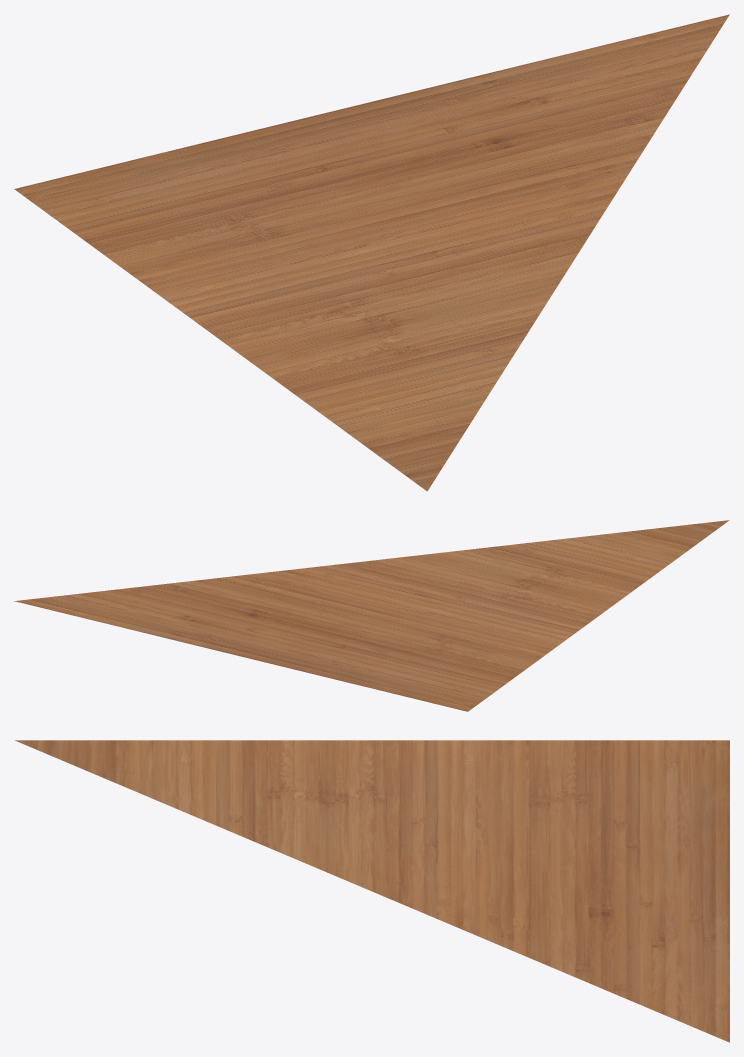
The model's file is GYM_Floor_Wood_7.fbx.
3 renders of one model, top to bottom at view 1: azimuth 30°, elevation 25°; view 2: azimuth 150°, elevation 25°; view 3: azimuth 270°, elevation 25°, orthographic. The views are drawn at different scales.
Parts seen in each view (by area): view 1: GYM_Wood_Floor_3; view 2: GYM_Wood_Floor_3; view 3: GYM_Wood_Floor_3.
Part boxes in pixels (<box>): GYM_Wood_Floor_3: <box>14,14,729,491</box>; GYM_Wood_Floor_3: <box>14,520,729,711</box>; GYM_Wood_Floor_3: <box>15,740,729,1042</box>.
Size of the model in its own units: 3.5 by 6.66e-16 by 3.5.
1 material, 1 textured.
